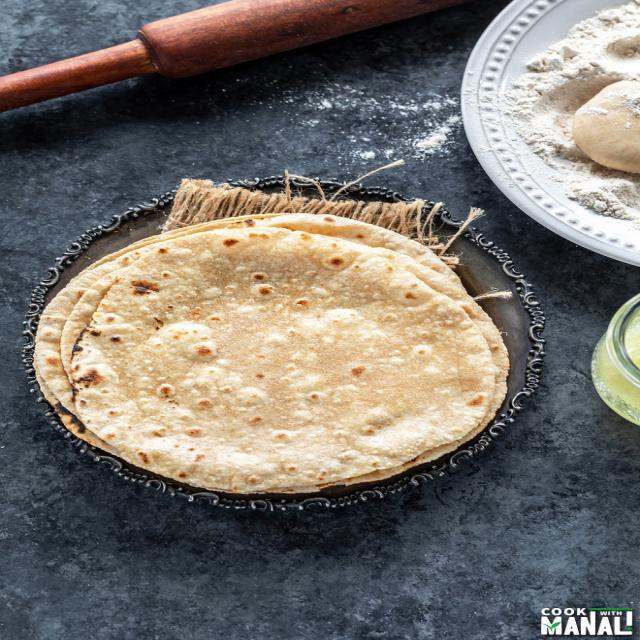ROTI: (35, 213, 508, 493)
